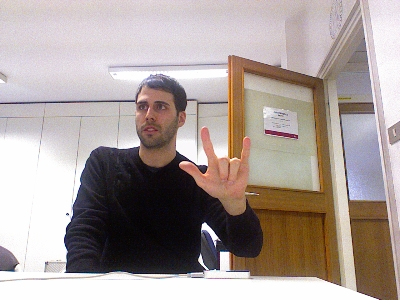我爱你: (177, 125, 251, 199)
